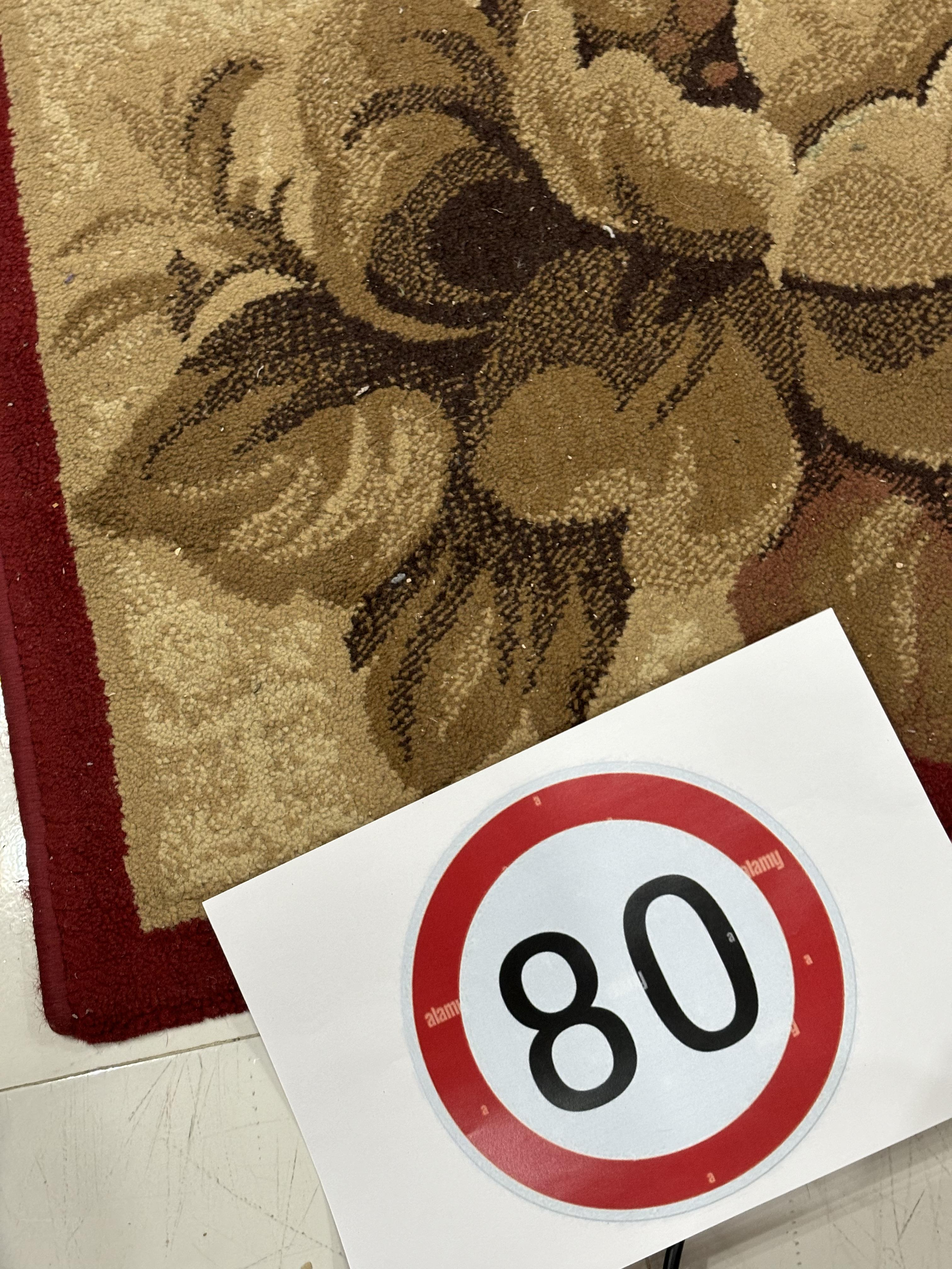80-Speed: (410, 756, 845, 1215)
